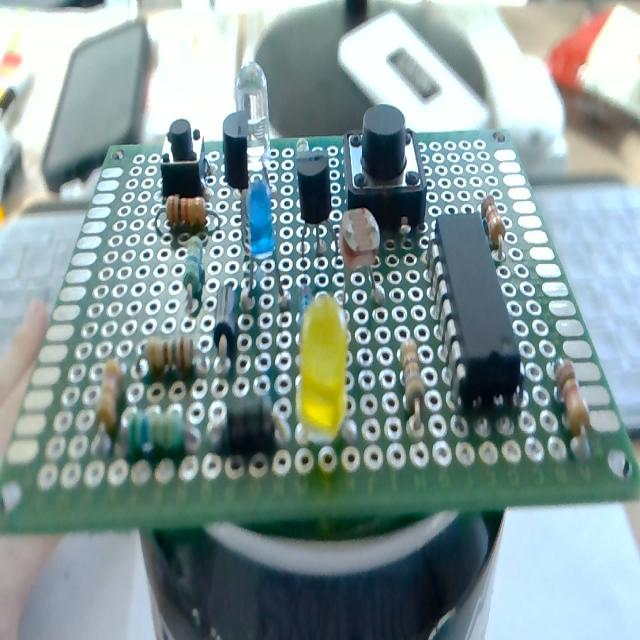IC: (434, 212, 521, 408)
cds: (337, 197, 387, 316)
diode: (213, 388, 282, 454), (213, 280, 237, 358)
led: (291, 291, 354, 457), (239, 175, 284, 309), (236, 62, 271, 169)
resistor: (553, 359, 593, 458), (127, 406, 184, 461), (144, 335, 195, 379), (97, 356, 124, 434), (400, 339, 426, 418), (182, 232, 206, 309), (480, 193, 507, 261), (165, 194, 206, 229)
switch: (344, 106, 428, 234), (162, 119, 208, 199)
transistor: (296, 152, 339, 294), (221, 113, 251, 225)
